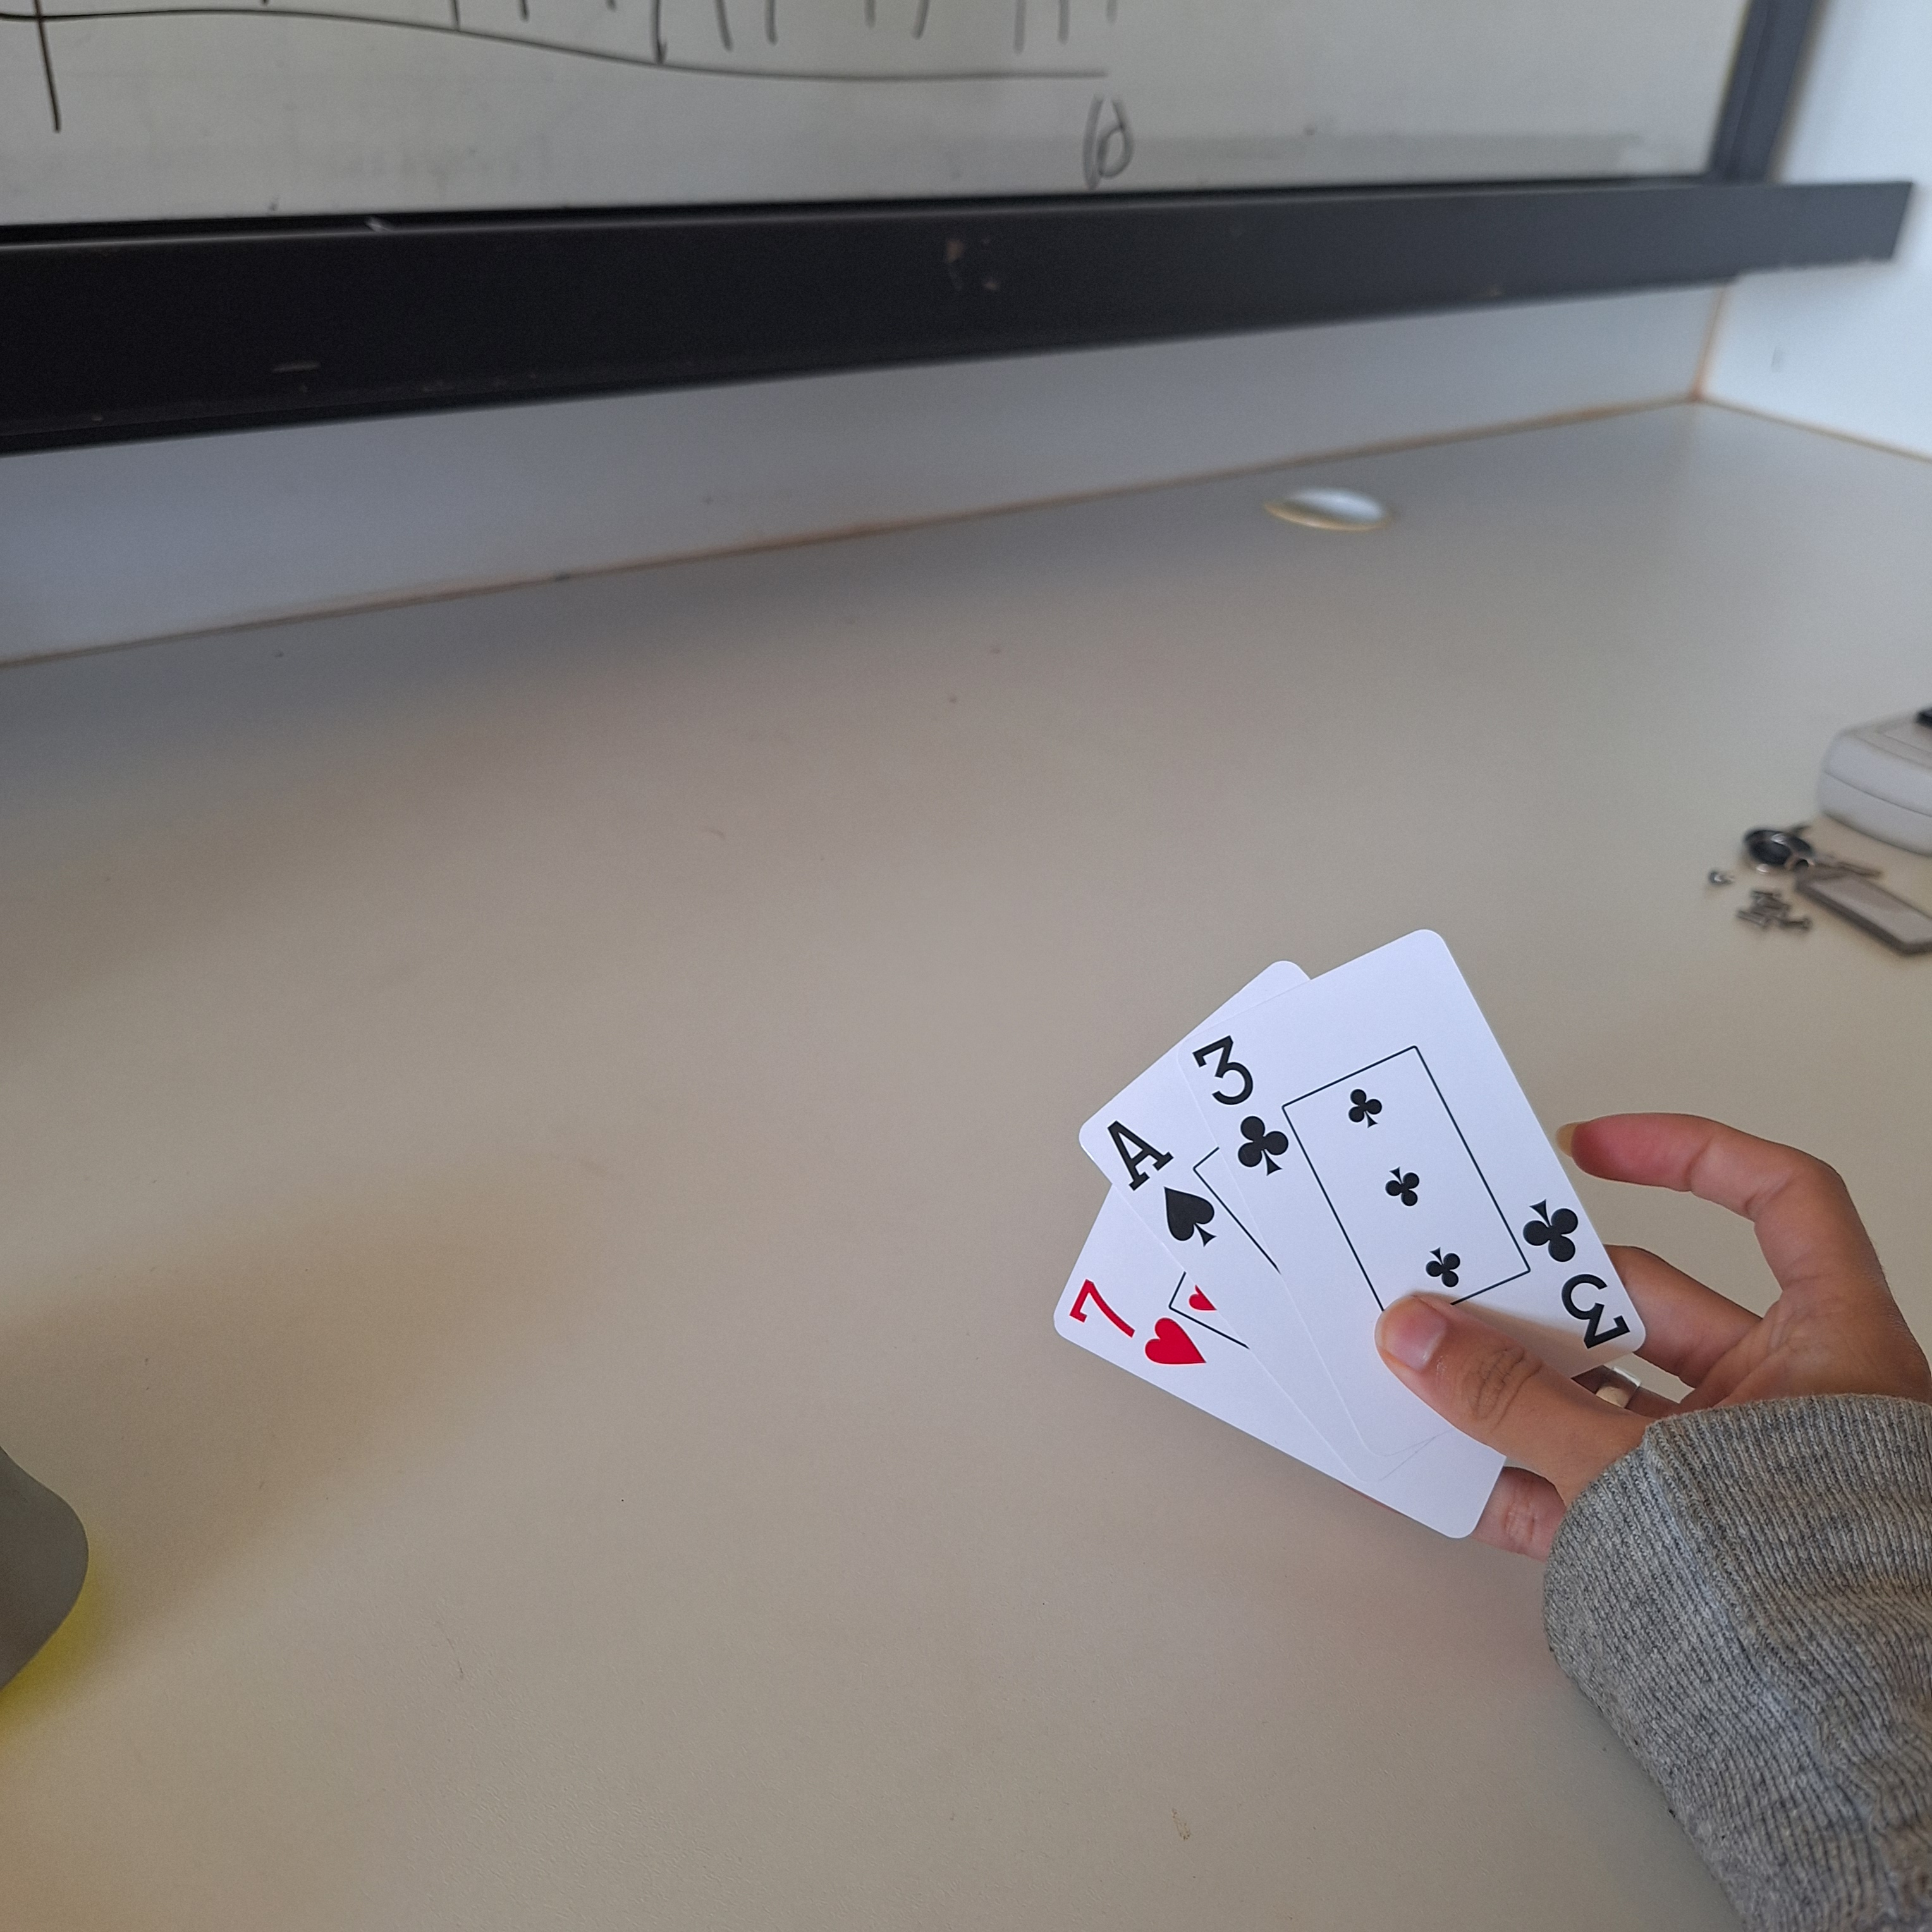3P: (1516, 1189, 1637, 1352), (1187, 1028, 1297, 1182)
7C: (1062, 1272, 1208, 1380)
AE: (1104, 1111, 1219, 1251)
